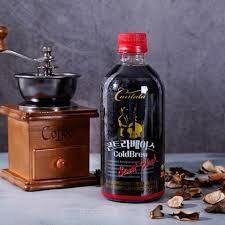contrabass_sweetblack: (97, 29, 166, 204)
